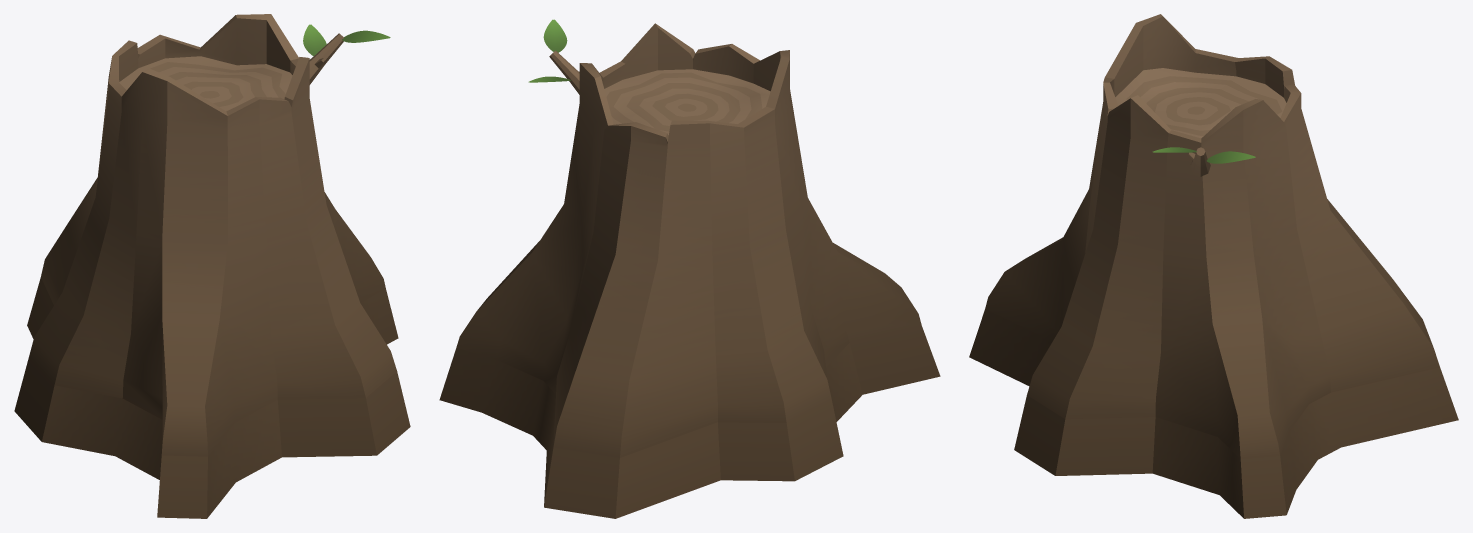
File: Stump_01.fbx
The picture shows the model from 3 angles, left to right: view 1: azimuth 30°, elevation 25°; view 2: azimuth 150°, elevation 25°; view 3: azimuth 270°, elevation 25°; orthographic projection. The views are drawn at different scales.
Visible parts, largest first — view 1: Stump_01_LOD0; view 2: Stump_01_LOD0; view 3: Stump_01_LOD0.
Part boxes in pixels (<box>): Stump_01_LOD0: <box>14,14,410,518</box>; Stump_01_LOD0: <box>439,19,940,518</box>; Stump_01_LOD0: <box>969,14,1458,518</box>.
Size of what is drawn, in the model's own units: 0.6993 by 0.6594 by 0.8053.
